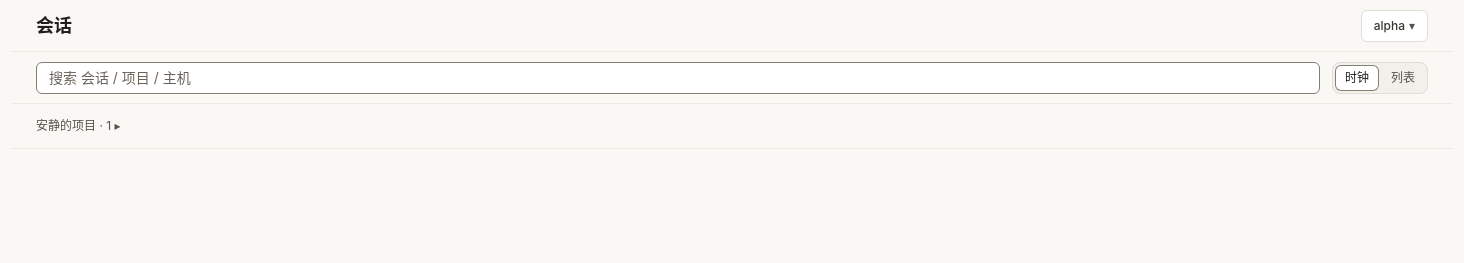
Scenario: HomeList resume › on a successful resume the busy state clears for the new navigation
The width and height of the screenshot is (1464, 263).
Click the button with test id "home-quiet-fold" at point(71, 126), box [12,104,1452,148]
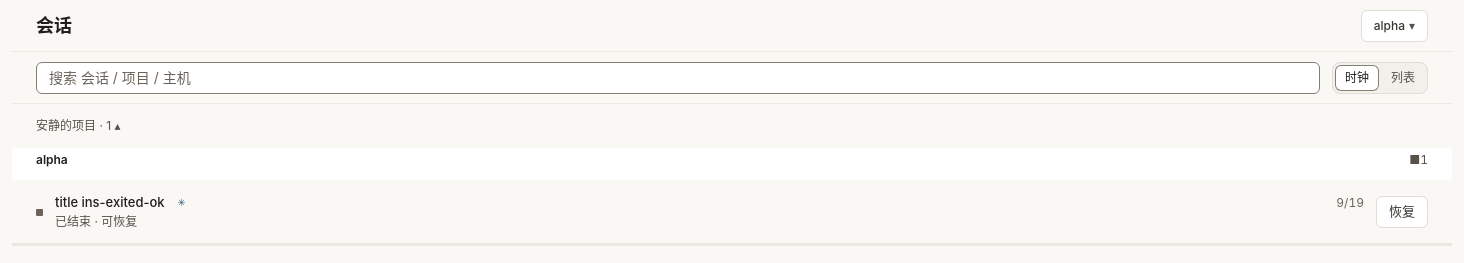
Click the button with test id "home-resume" at point(1402, 212), box [1376,196,1428,228]
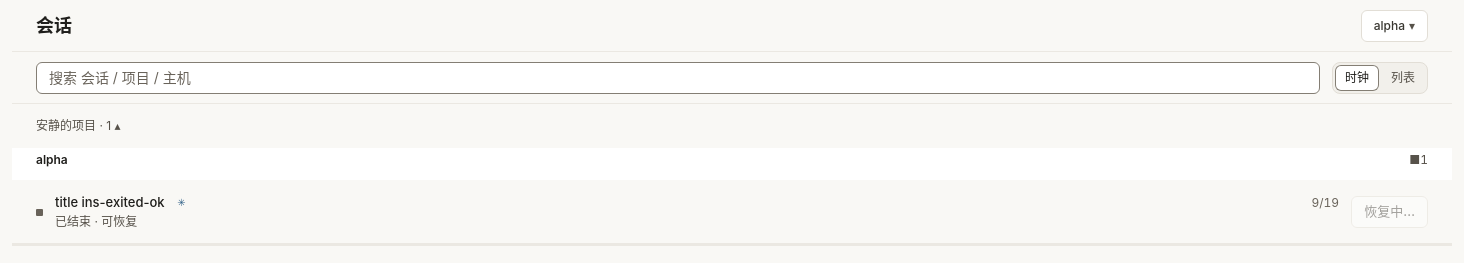
Expected: the button with test id "home-resume" is disabled, [1351,196,1428,228]
Expected: the button with test id "home-resume" reads "恢复中…", [1351,196,1428,228]
